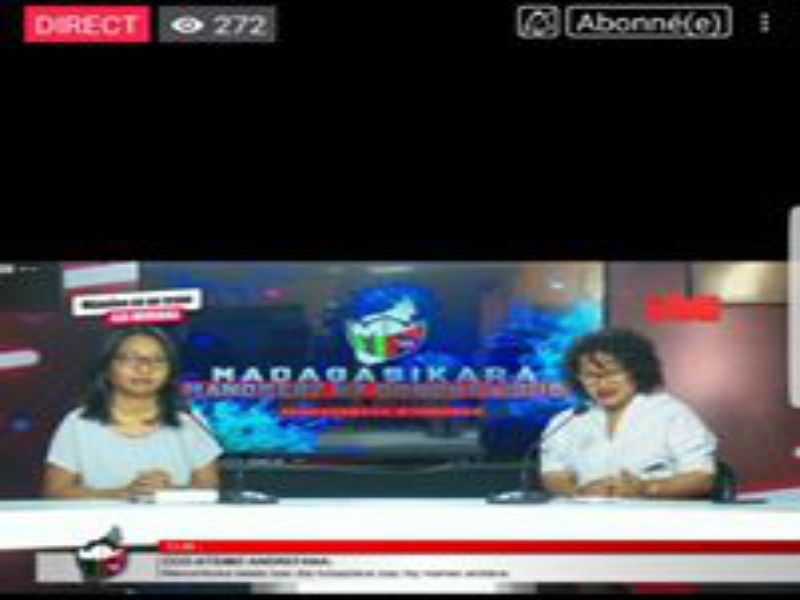TsisyArotava: (95, 316, 181, 412), (569, 331, 648, 419)
